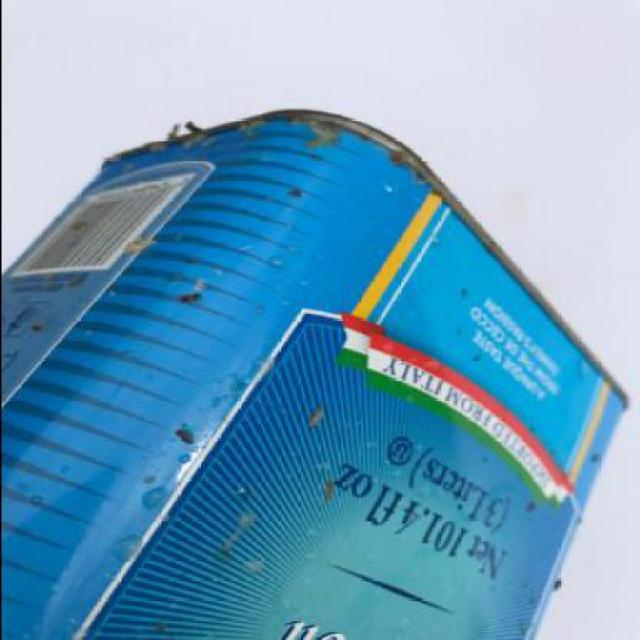METAL: (2, 107, 629, 639)
